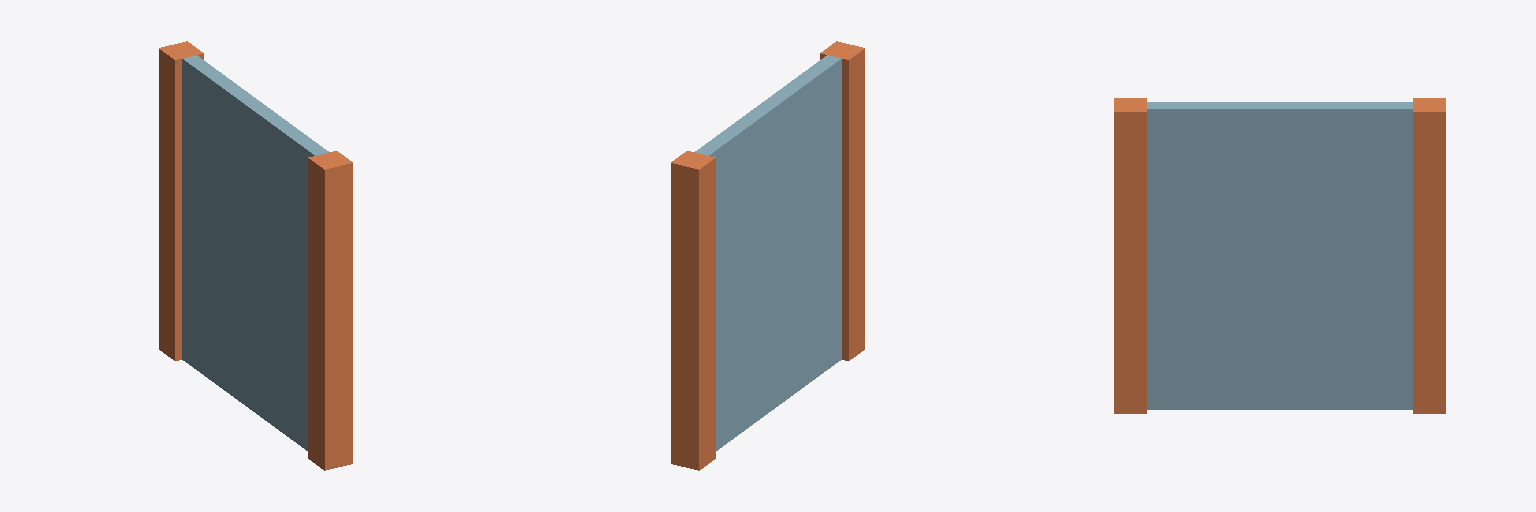
The model's file is wall.obj.
3 views of the same model, side by side, from view 1: azimuth 30°, elevation 25°; view 2: azimuth 150°, elevation 25°; view 3: azimuth 270°, elevation 25° (orthographic).
Visible parts, largest first — view 1: wall; view 2: wall; view 3: wall.
Part boxes in pixels (bbox=[...]): wall: bbox=[159, 41, 352, 470]; wall: bbox=[671, 41, 864, 470]; wall: bbox=[1114, 98, 1445, 413].
Size of the model in its own units: 0.1 by 1 by 1.